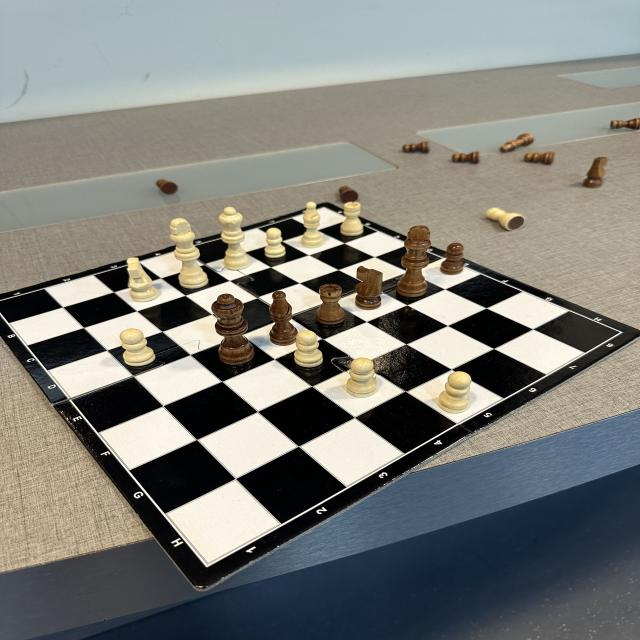Black-Bishop: (268, 291, 293, 346), (500, 133, 534, 153)
Black-King: (396, 225, 432, 297)
Black-Knight: (354, 266, 384, 310), (582, 156, 609, 188)
Black-Pawn: (440, 243, 464, 275), (524, 152, 555, 165), (156, 179, 180, 195), (402, 141, 430, 154), (452, 152, 479, 164), (339, 186, 358, 202)
Black-Queen: (211, 294, 255, 366)
Black-Rook: (315, 283, 346, 325), (609, 117, 640, 130)
White-Bishop: (302, 202, 324, 248)
White-King: (170, 218, 209, 289)
White-Knight: (127, 258, 158, 302)
White-Pawn: (437, 371, 472, 413), (120, 328, 156, 367), (346, 358, 378, 398), (294, 330, 324, 368), (264, 228, 287, 258)
White-Queen: (219, 207, 251, 271)
White-Rook: (485, 207, 526, 231), (340, 202, 364, 236)
